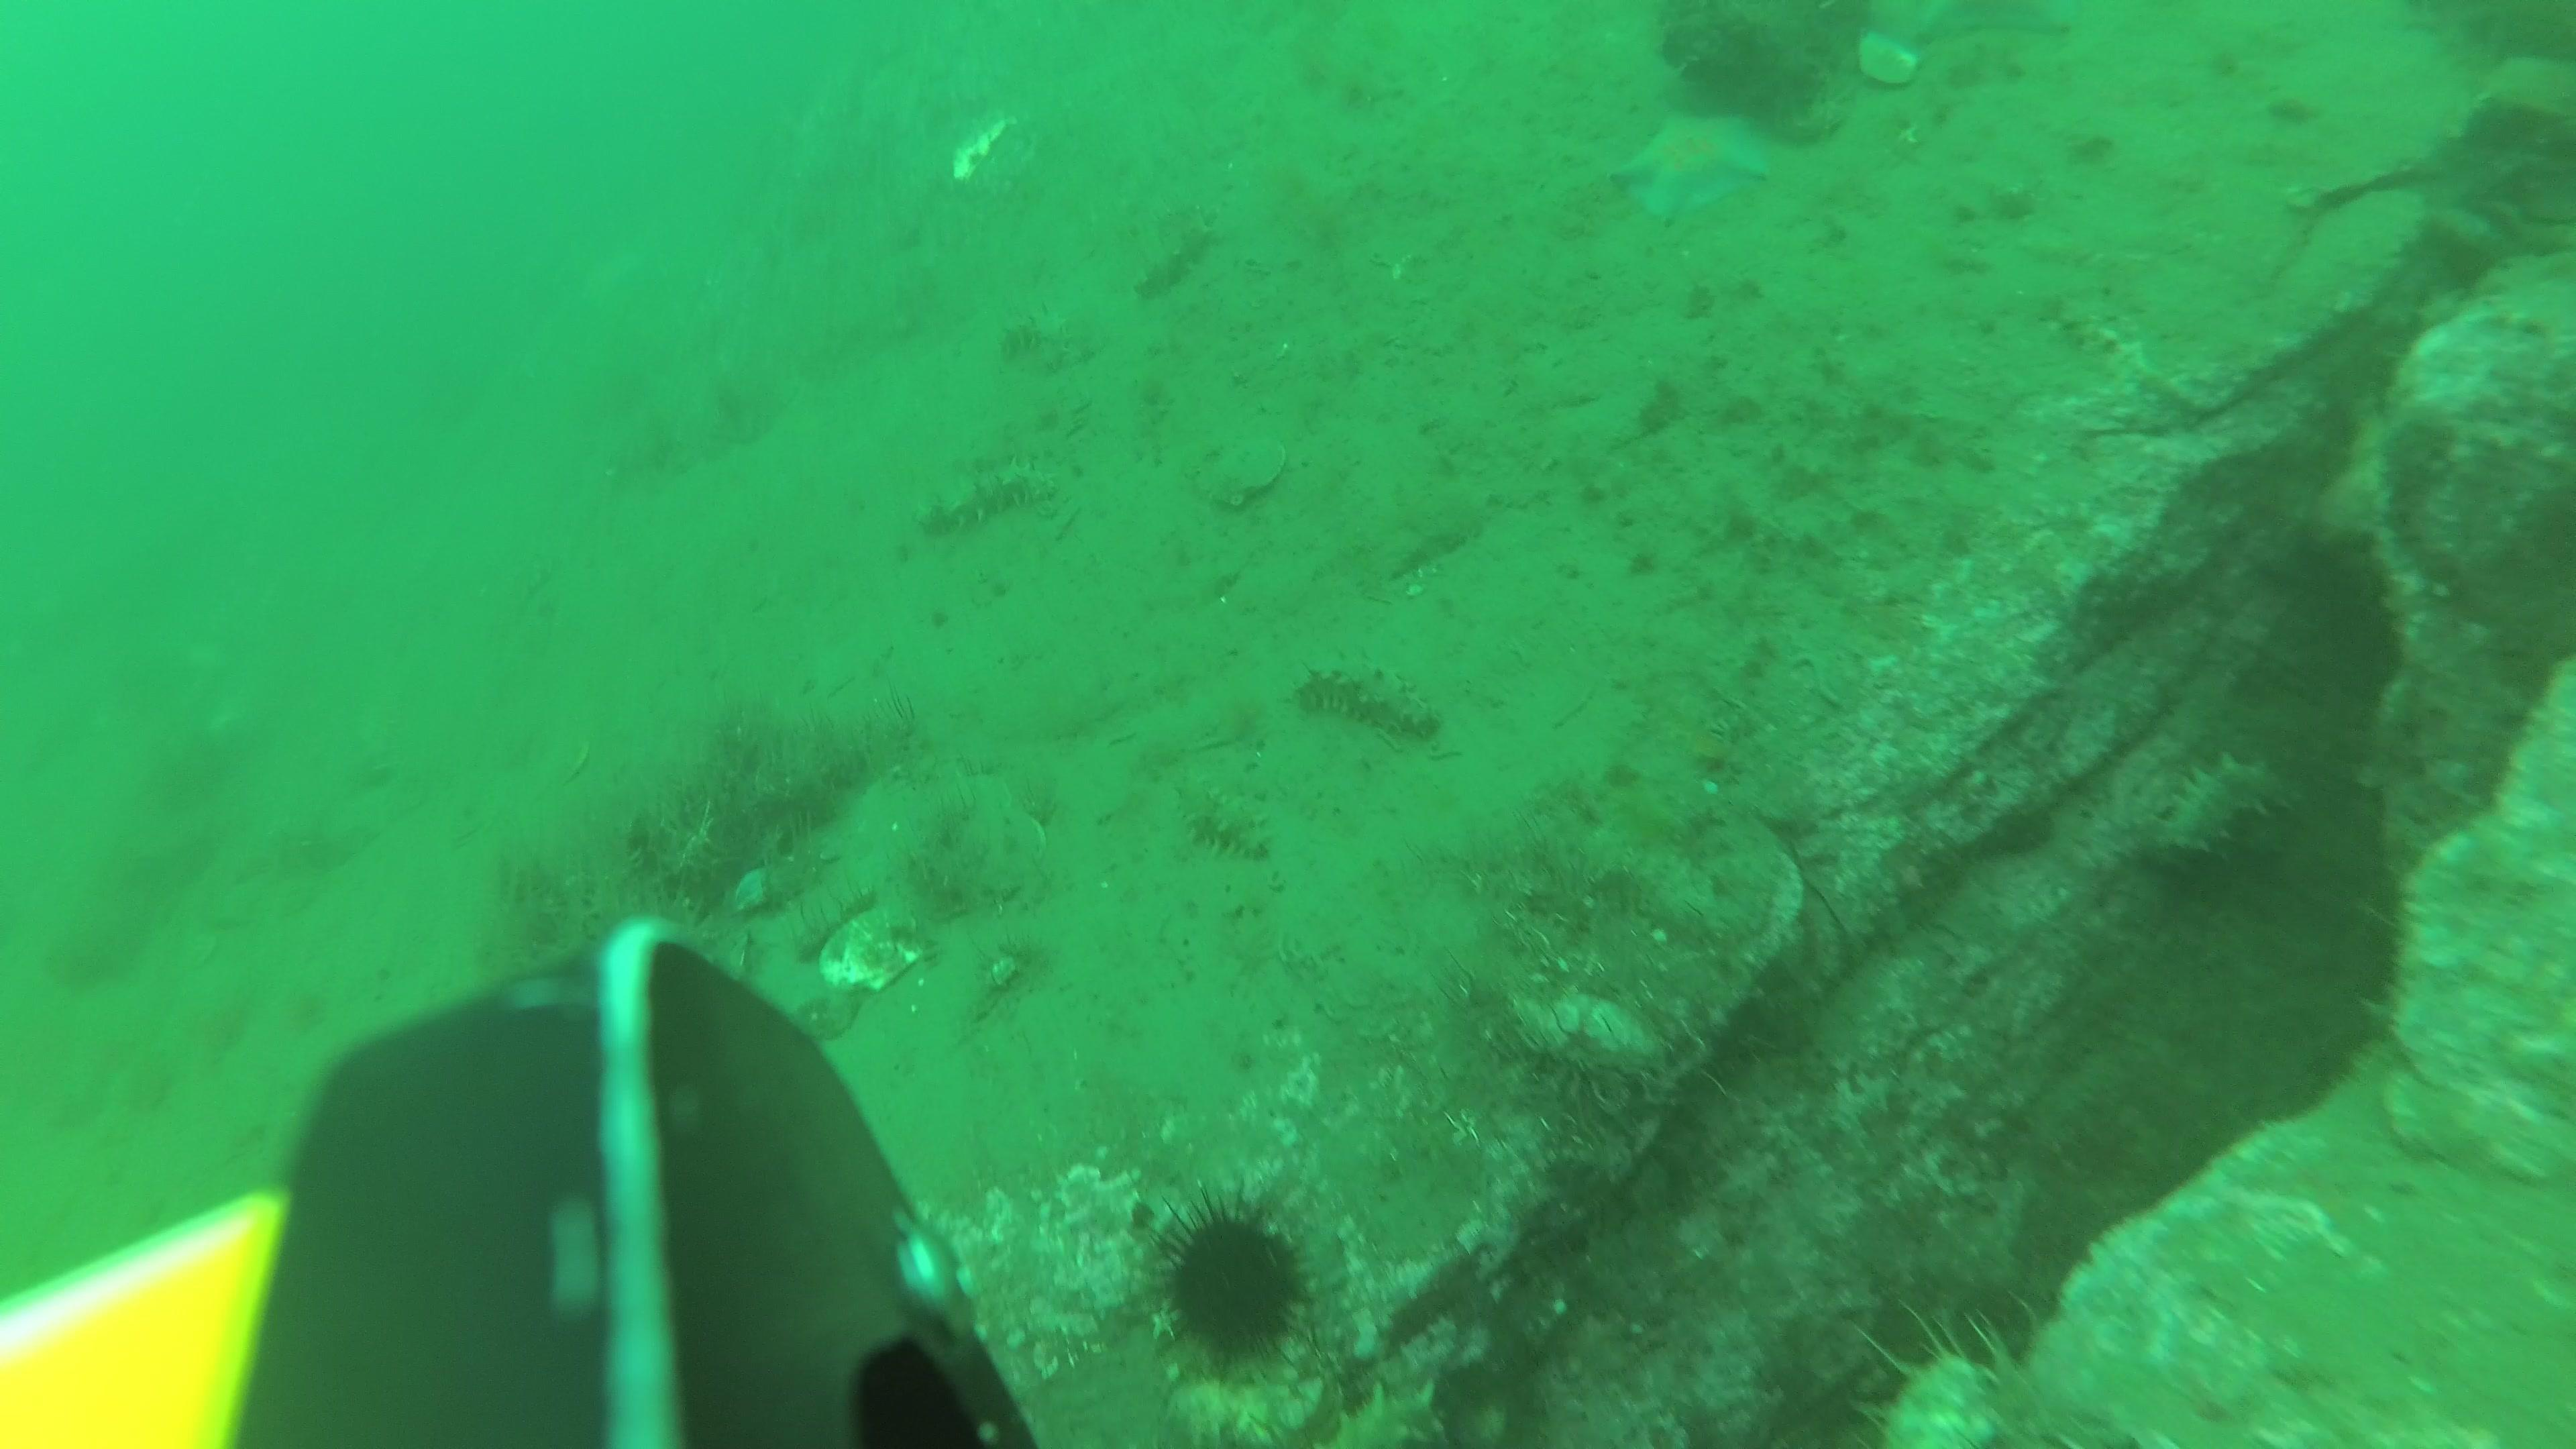echinus: (1152, 1196, 1315, 1382)
holothurian: (2167, 747, 2307, 863), (1302, 655, 1442, 747), (1330, 1376, 1463, 1449), (922, 462, 1046, 536), (1139, 219, 1215, 301), (1194, 803, 1270, 865), (996, 311, 1072, 372)
scallop: (920, 771, 1008, 872), (821, 906, 916, 998), (954, 809, 1047, 901), (1203, 432, 1286, 508), (1856, 34, 1916, 87)
starfish: (1622, 108, 1775, 226), (1870, 0, 2068, 55)
